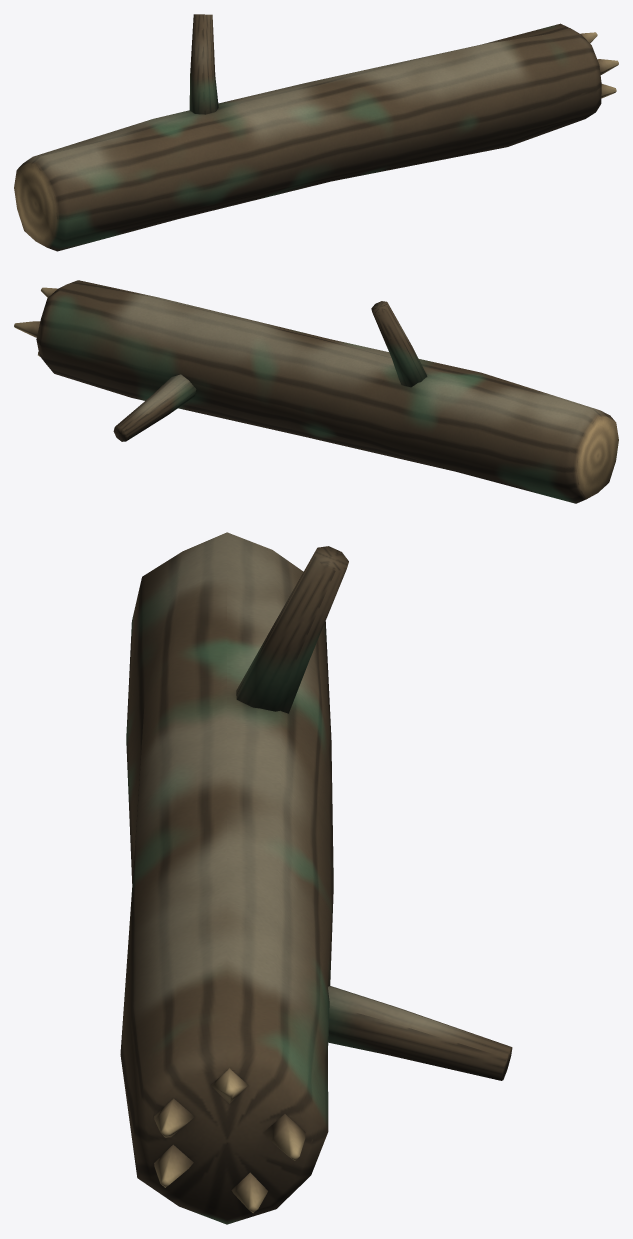
The model's file is Tronco_Hundido.fbx.
3 views of the same model, one above another, from view 1: azimuth 30°, elevation 25°; view 2: azimuth 150°, elevation 25°; view 3: azimuth 270°, elevation 25° (orthographic). The views are drawn at different scales.
Visible parts, largest first — view 1: Malla; view 2: Malla; view 3: Malla.
Part boxes in pixels (x1,y1,x2,y2): Malla: [14, 14, 618, 251]; Malla: [14, 280, 618, 503]; Malla: [120, 532, 512, 1224].
Bounding box in the file's own units: 5.26 × 1.53 × 1.58.
1 material, 1 textured.
